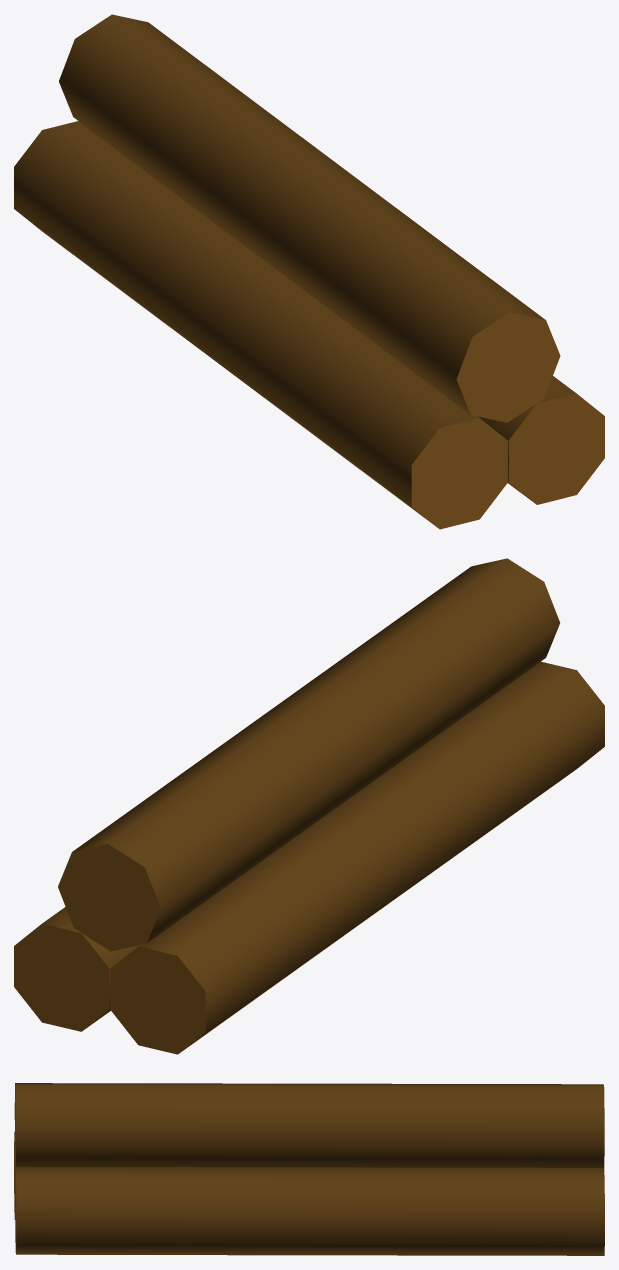
File: LogPileLarge.fbx
3 renders of one model, top to bottom at view 1: azimuth 30°, elevation 25°; view 2: azimuth 150°, elevation 25°; view 3: azimuth 270°, elevation 25°, orthographic. The views are drawn at different scales.
Parts seen in each view (by area): view 1: VillagerLogPileLarge; view 2: VillagerLogPileLarge; view 3: VillagerLogPileLarge.
Part boxes in pixels (bbox=[...]): VillagerLogPileLarge: bbox=[14, 14, 604, 529]; VillagerLogPileLarge: bbox=[14, 558, 604, 1054]; VillagerLogPileLarge: bbox=[14, 1083, 604, 1255].
Size of the model in its own units: 98.08 by 93.71 by 343.
